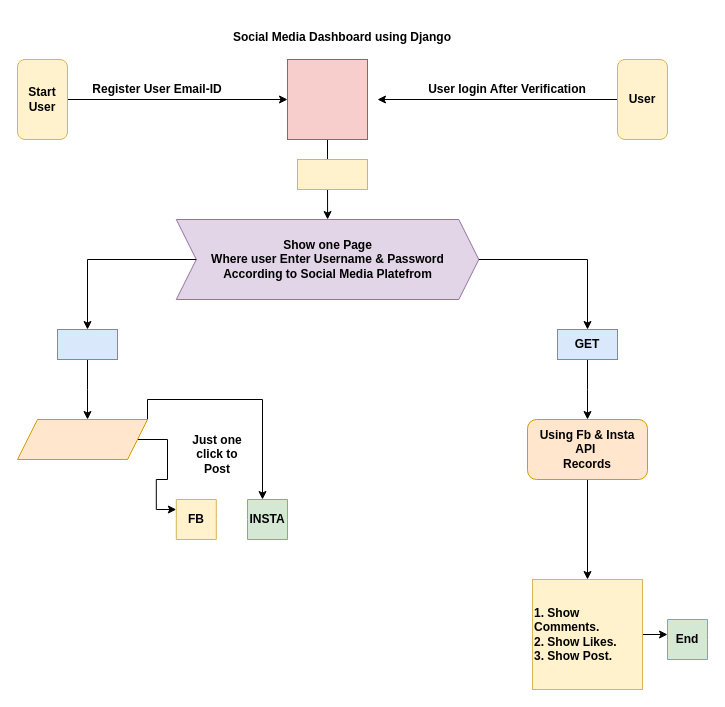
This 725x707 diagram has some shape labels left out. Each missing label, with the centre of its shape:
"1. Image upload 2. Caption 3. Location" belongs at pixel 82 439.
"After login" belongs at pixel 332 174.
"Django Projects" belongs at pixel 327 99.
"POST" belongs at pixel 87 344.
